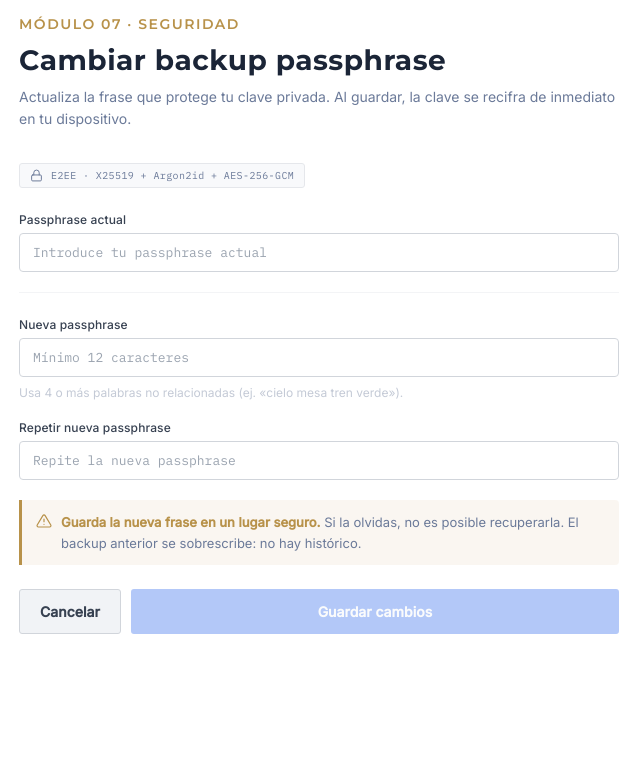
Test: SET-SEC-01 · guardar › con la actual mala dice «no es correcta» y conserva la nueva
In the password field labelled "Passphrase actual": {"x": 319, "y": 252} [19,233,619,272], type "tornillo ámbar cometa jilguero 42"
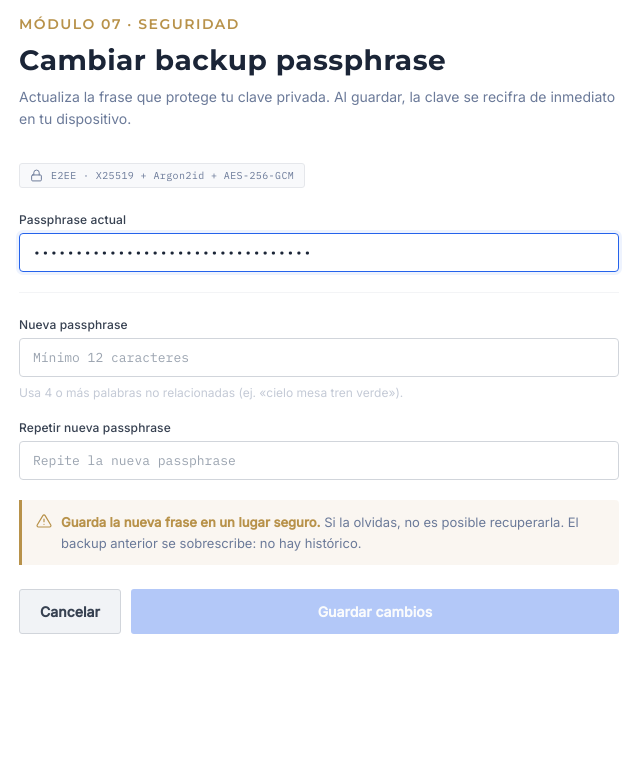
In the password field labelled "Nueva passphrase": {"x": 319, "y": 357} [19,338,619,377], type "correct-horse-battery-staple-2024"
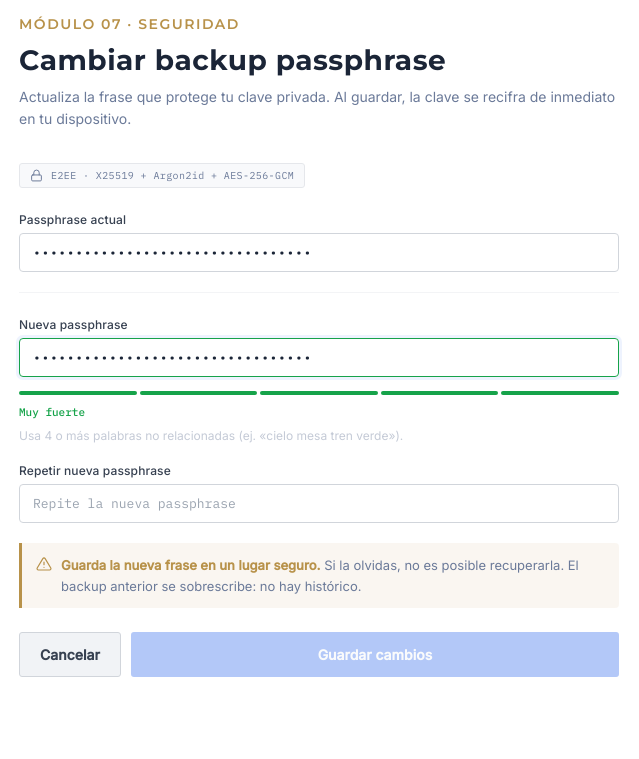
In the password field labelled "Repetir nueva passphrase": {"x": 319, "y": 503} [19,484,619,523], type "correct-horse-battery-staple-2024"
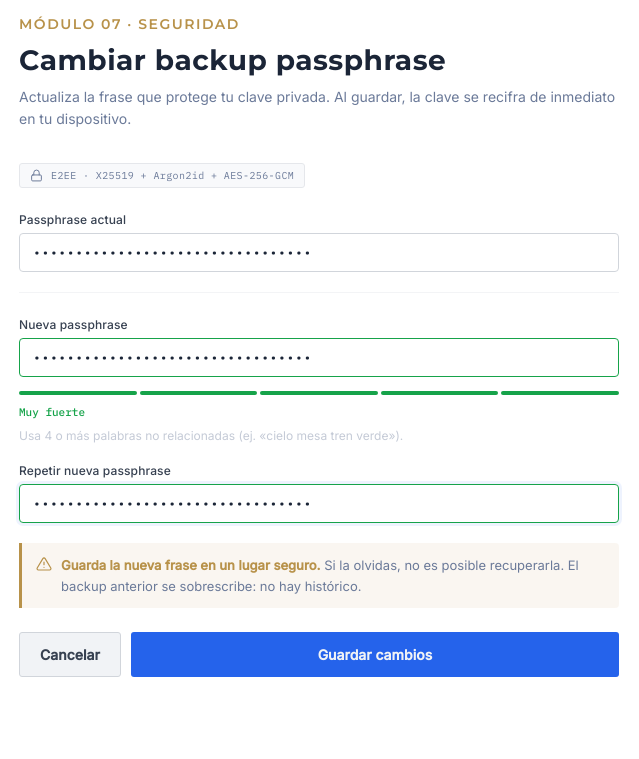
Expected: the button "Guardar cambios" is enabled
Click the button "Guardar cambios": {"x": 375, "y": 655} [131,632,619,677]
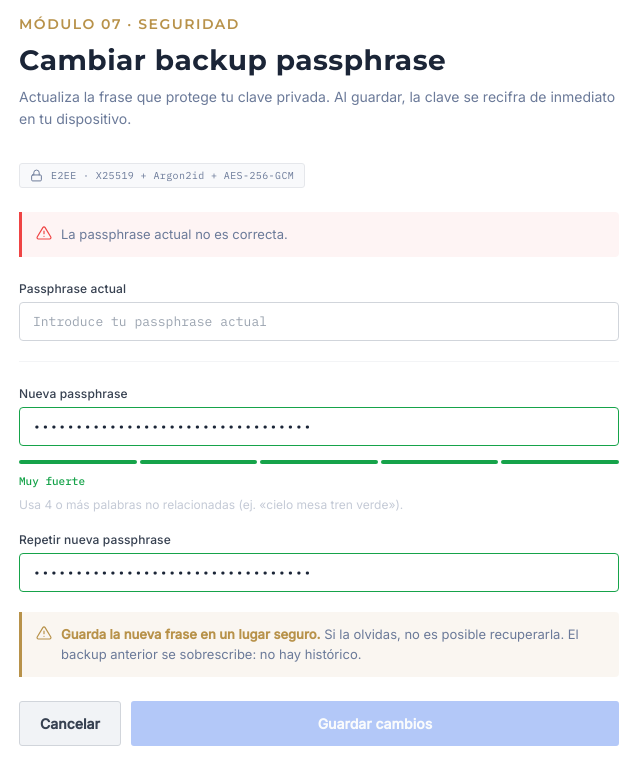
Expected: the text "La passphrase actual no es correcta." is shown, [61,224,288,245]
Expected: the password field labelled "Passphrase actual" is empty, [19,302,619,341]
